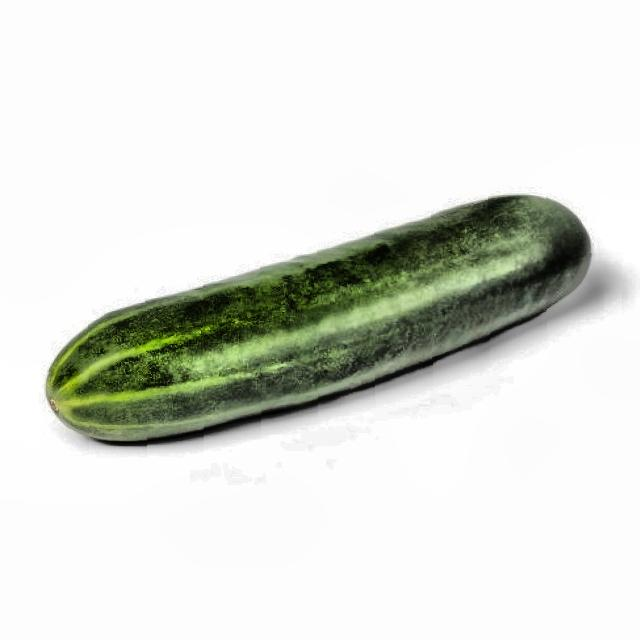cucumber: (10, 153, 626, 586)
